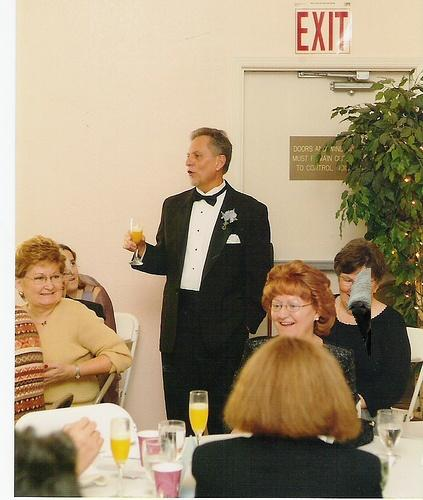tampered: (348, 269, 371, 356)
